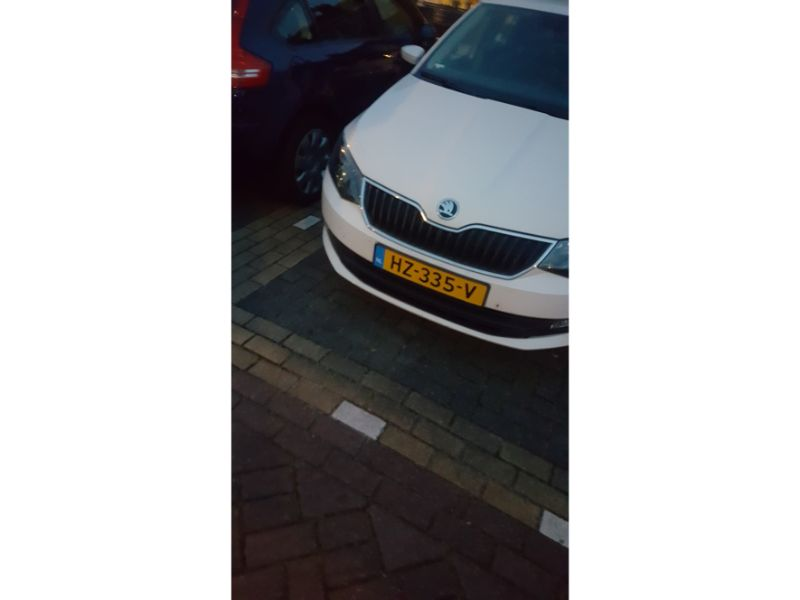kenteken: (373, 241, 490, 311)
